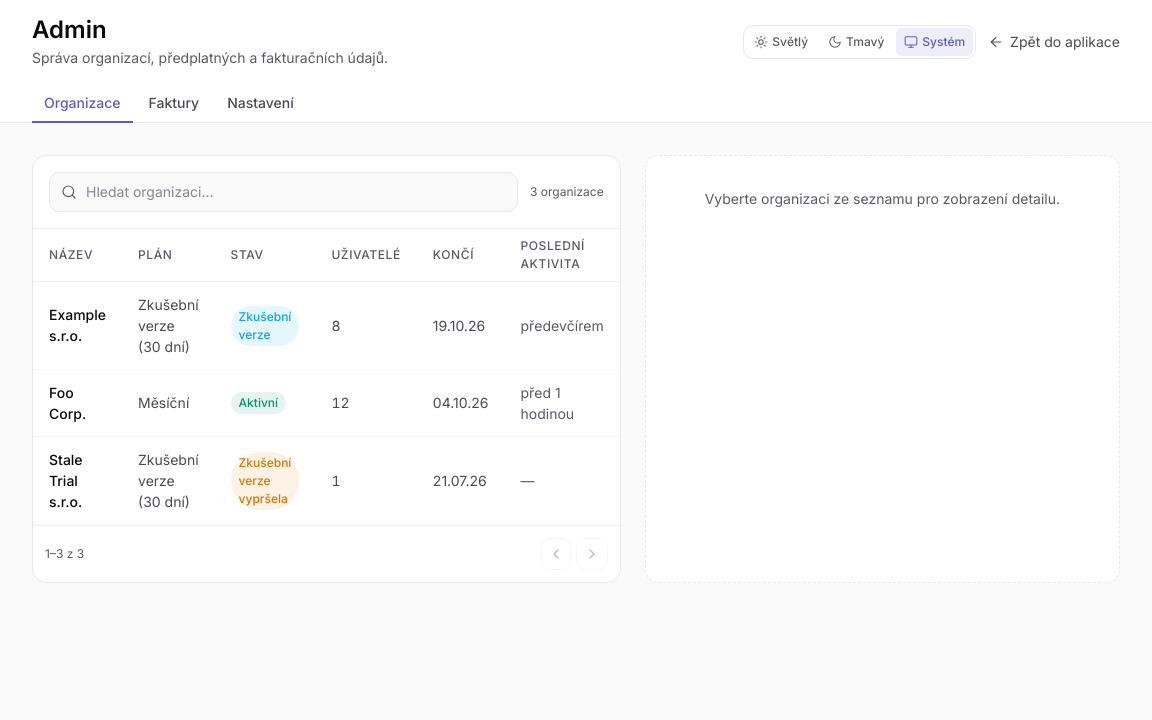
Admin surface › clicking a row opens the drawer with subscription details
Click the text "Example s.r.o.".
click(78, 315)  # box [49, 306, 106, 344]
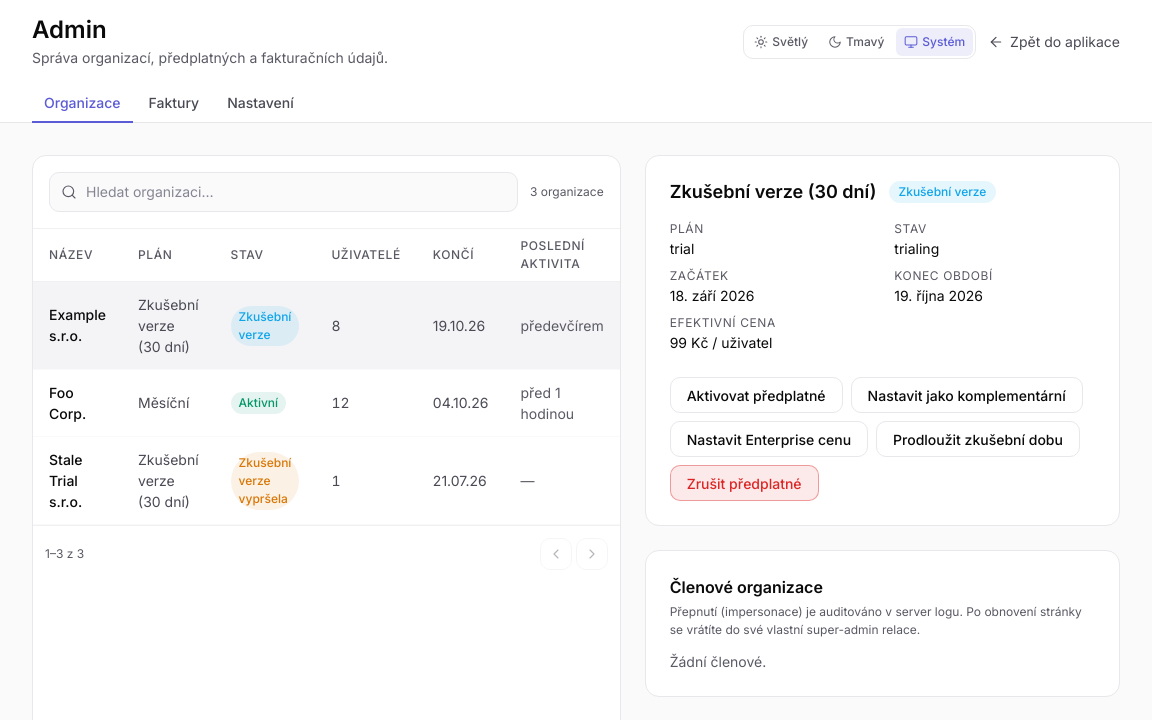
Now the heading "Zkušební verze (30 dní)" is shown, box [670, 180, 876, 204]
Now the button "Aktivovat předplatné" is shown, box [670, 377, 843, 413]
